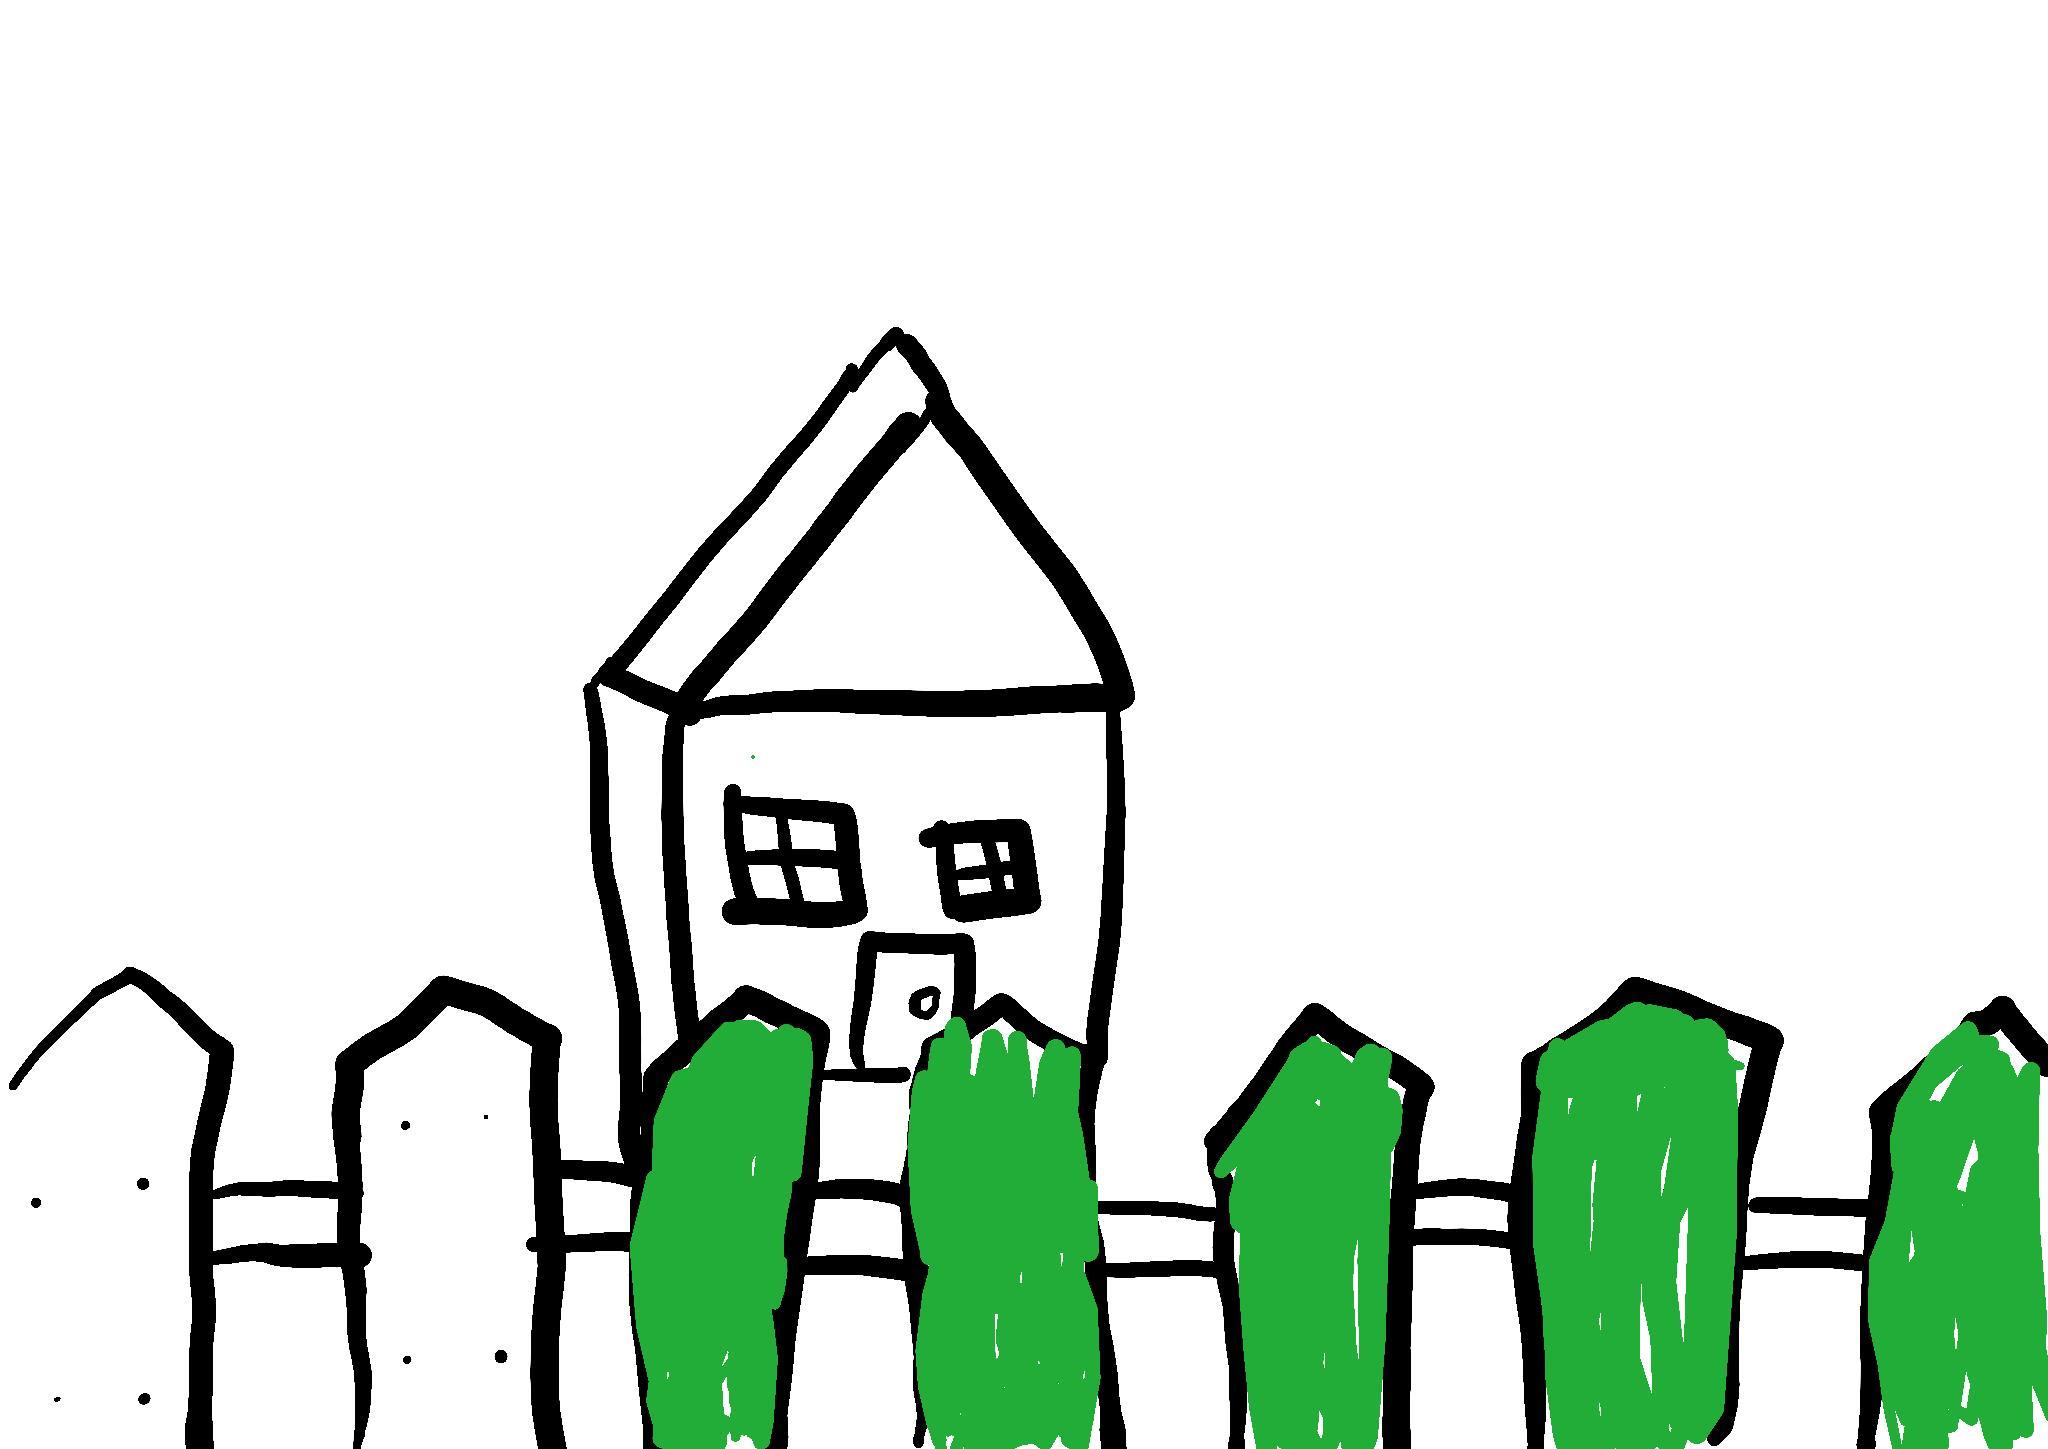door: (866, 938, 960, 1071)
house: (579, 315, 1146, 1091)
roof: (577, 318, 1143, 728)
wall: (593, 681, 1121, 1079)
window: (729, 792, 869, 924), (936, 826, 1040, 916)
